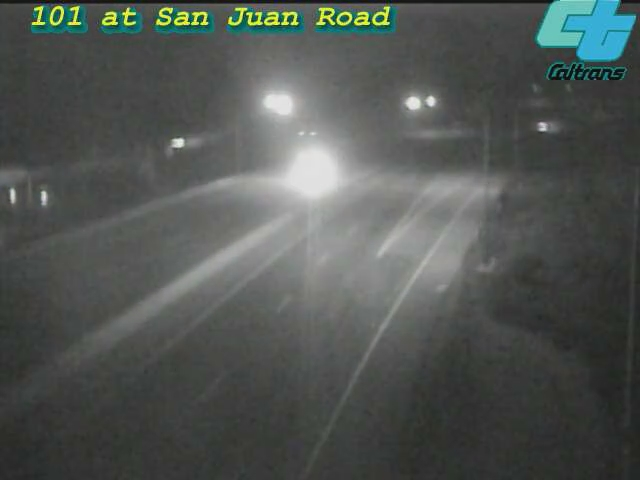vehicle: (267, 134, 347, 214)
